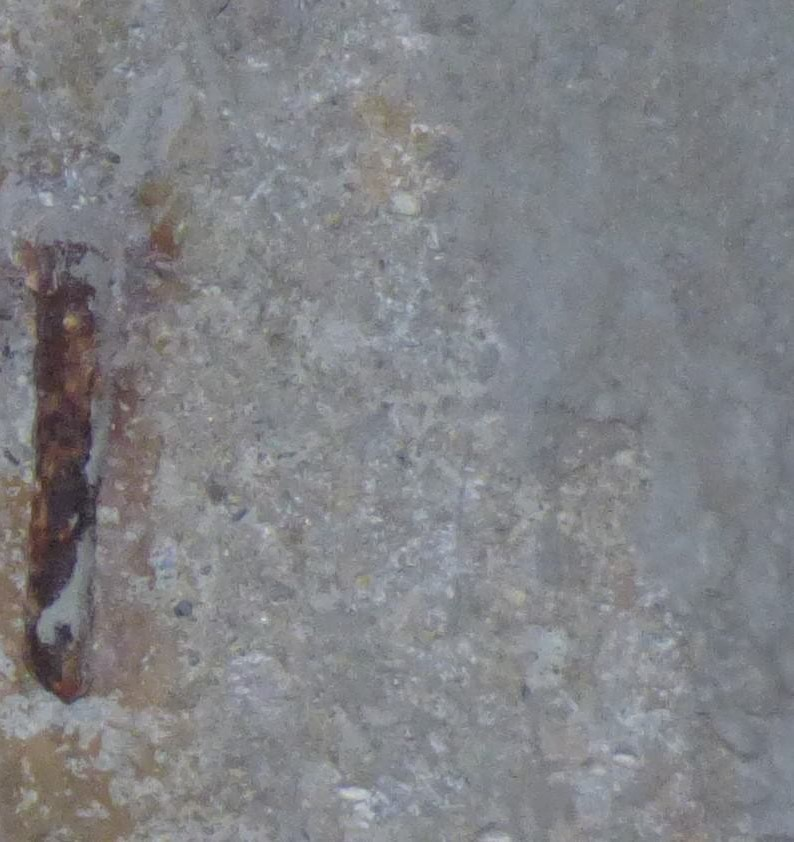Exposed reinforcement: (21, 284, 96, 703)
